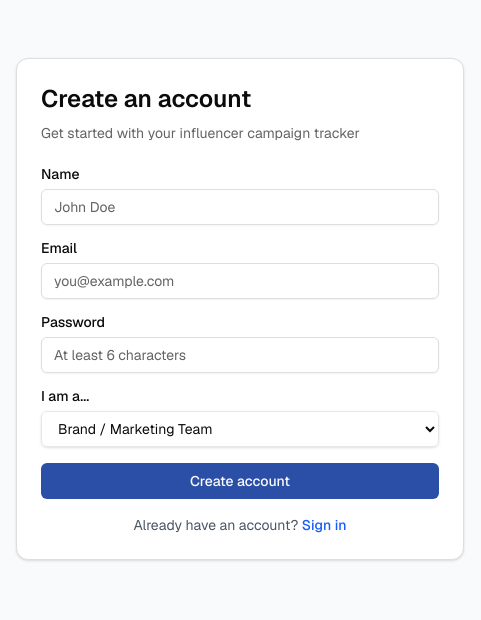
Test case: RegisterPage › validates name length
This screenshot has width=481, height=620.
In the field labelled "Name": (240, 207) left=41, top=189, right=439, bottom=225, type "A"
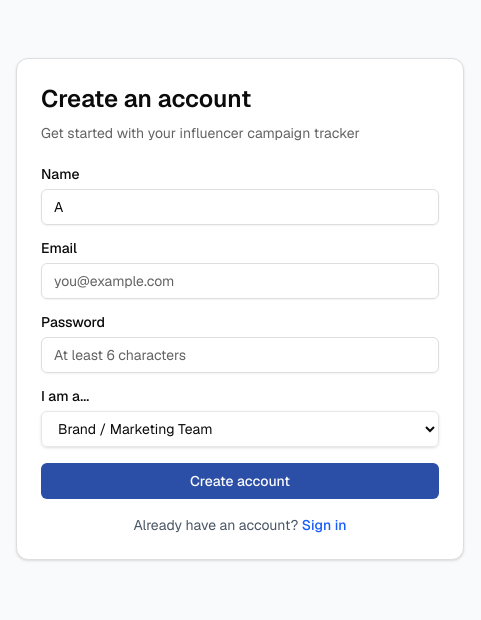
Click the button "Create account": (240, 481) left=41, top=463, right=439, bottom=499
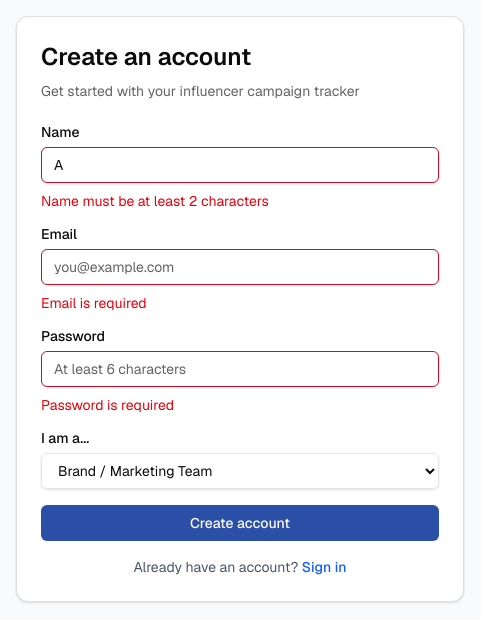
Result: the text "Name must be at least 2 characters" is shown at left=41, top=192, right=269, bottom=210
